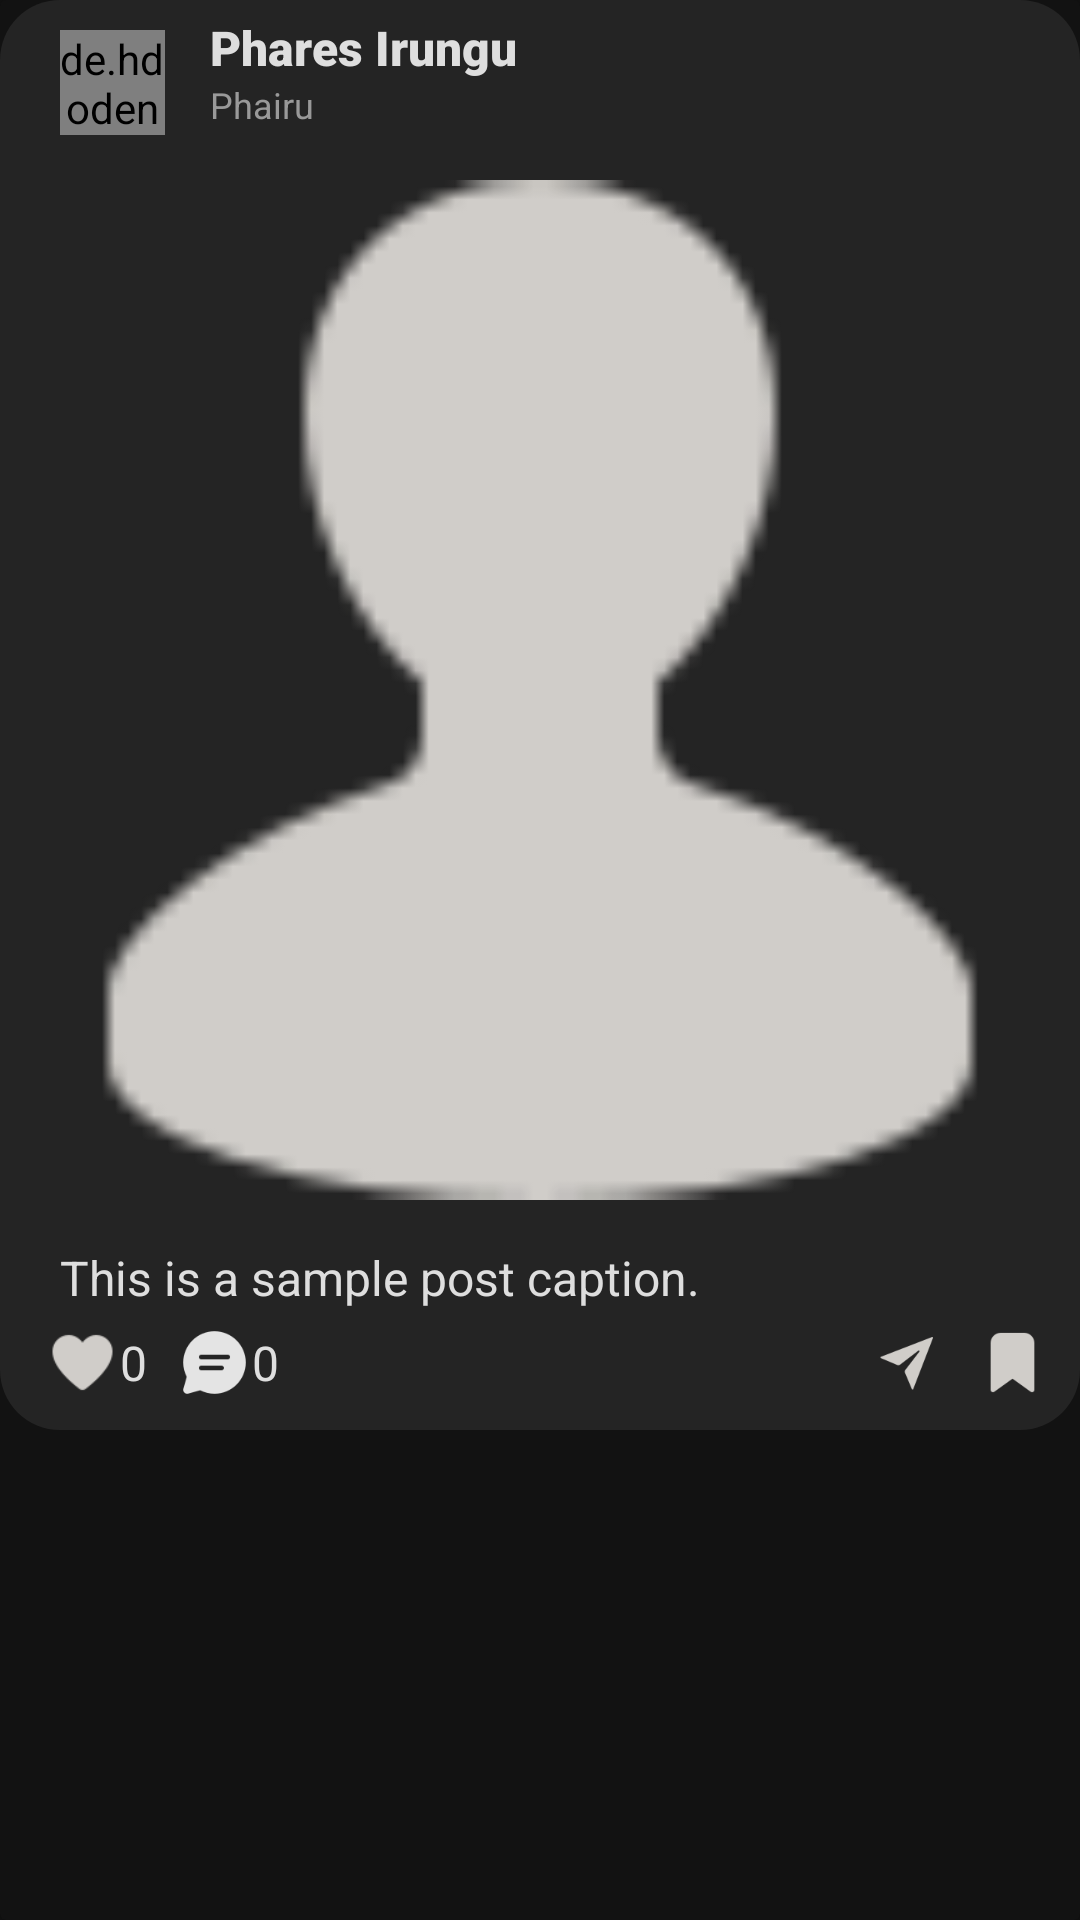

Icon click points for this 1080px×1920px phone screenshot, format (x,y):
heart: (82,1362)
message: (214,1362)
send: (906,1363)
